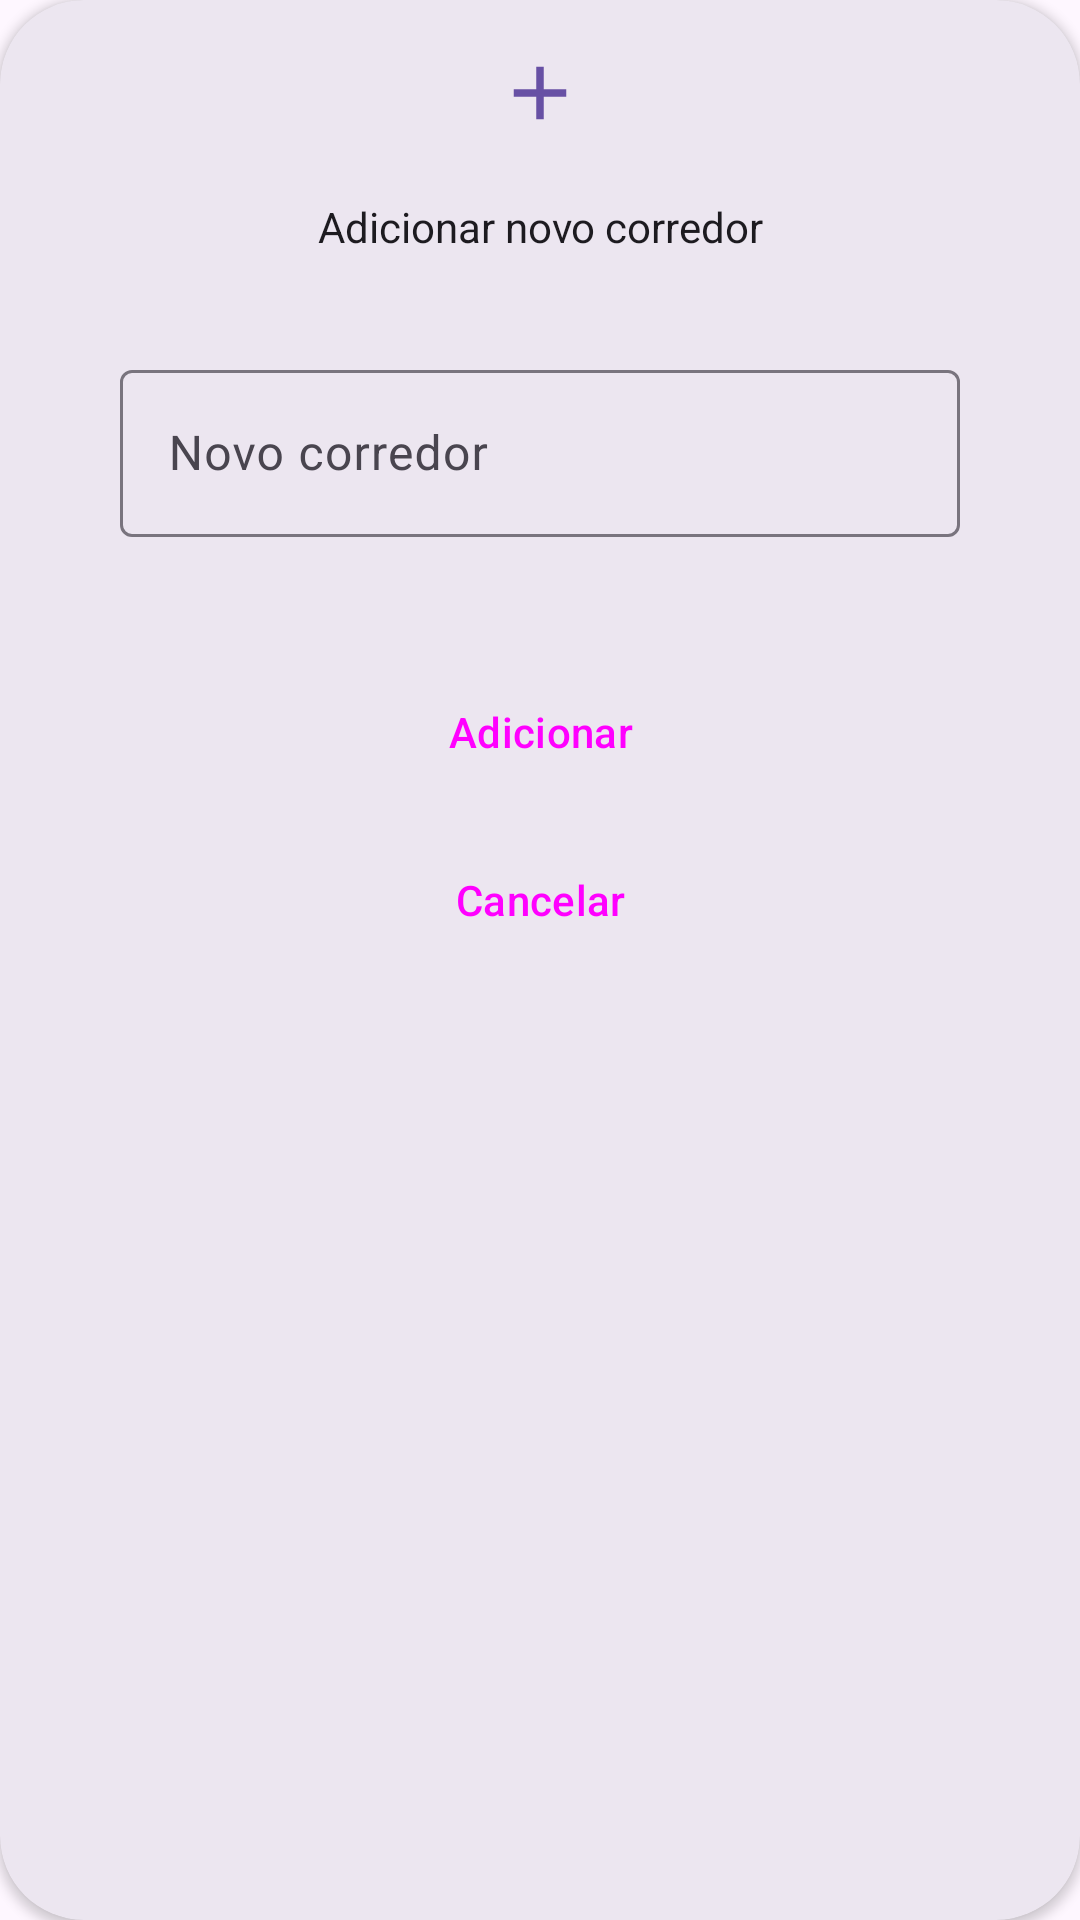

Named icons in this screenshot (1080*1920) and their bounding boxes, box=[x1, y1, x2, y2]:
Ícone de soma: box=[513, 66, 567, 120]
